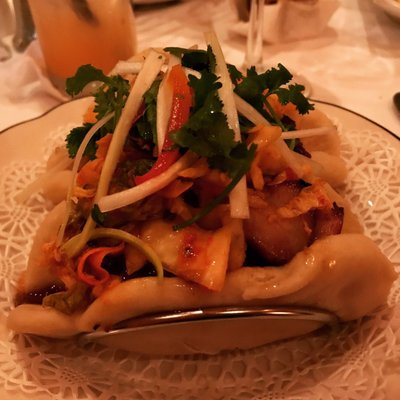curry: (16, 0, 400, 370)
pizza: (136, 214, 241, 293)
